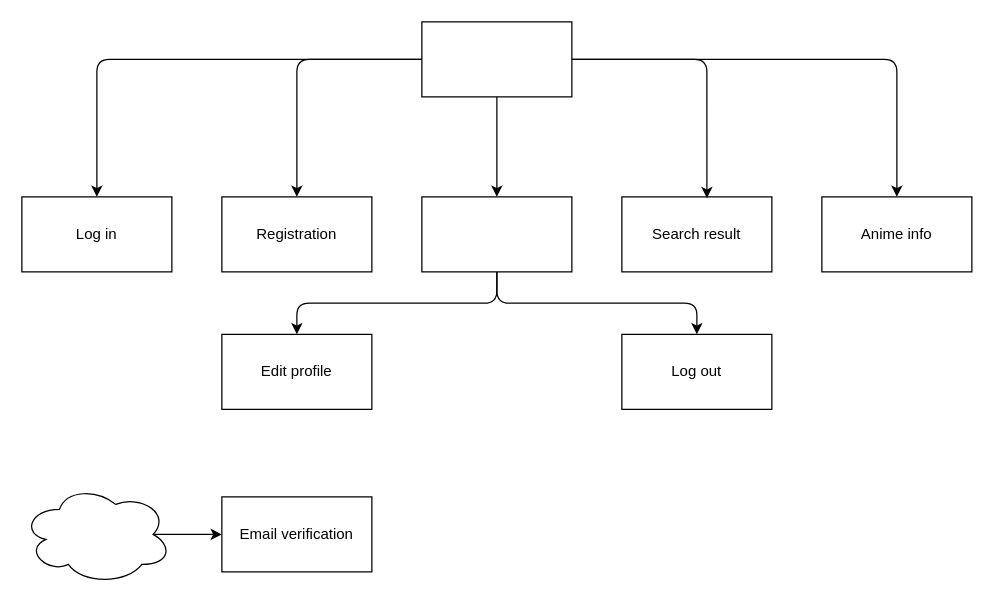
The diagram is 994 pixels wide and 606 high, and some of its shapes have lost their labels. Each missing label, with the box of its shape:
Email: (21, 483, 172, 584)
Home (List of last anime): (421, 21, 572, 97)
Profile: (421, 196, 572, 272)
